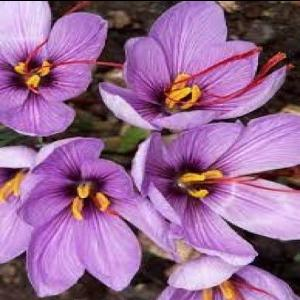Saffron: (137, 109, 300, 264), (110, 0, 290, 130), (21, 138, 138, 294), (0, 0, 107, 133)
